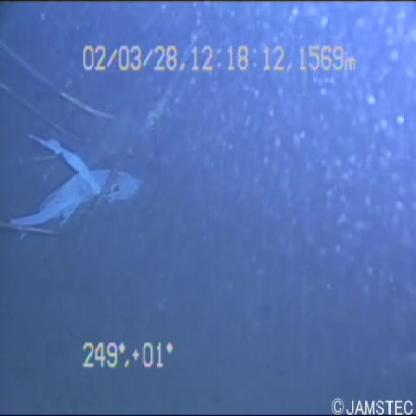Rác: (3, 118, 146, 268)
